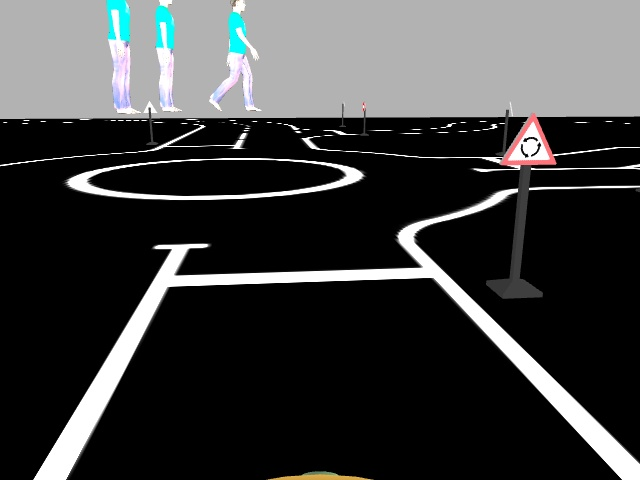Roundabout: (498, 109, 556, 169)
